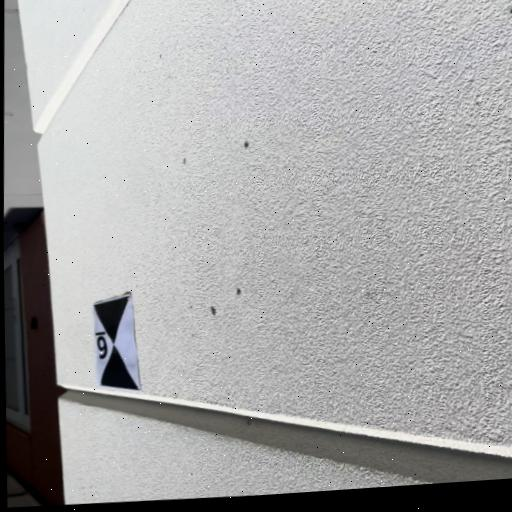target6: (88, 292, 143, 389)
